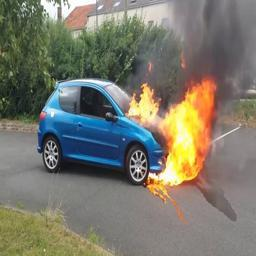fire: (129, 79, 216, 185)
